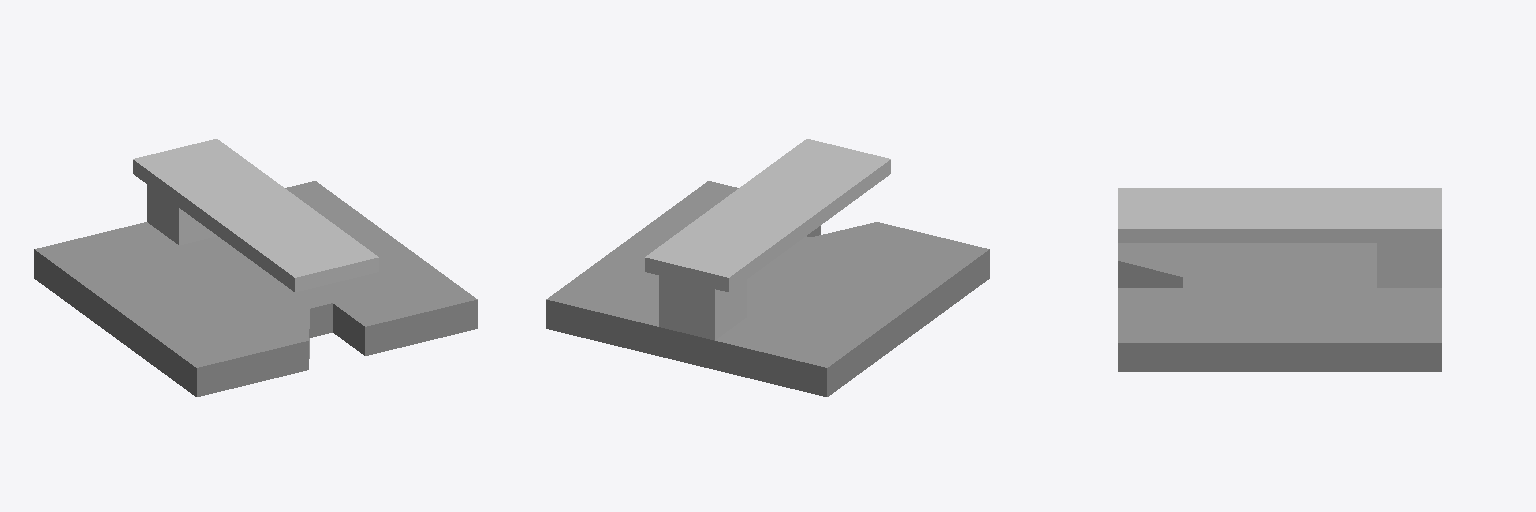
Rendered from hang3.obj.
3 renders of one model, left to right at view 1: azimuth 30°, elevation 25°; view 2: azimuth 150°, elevation 25°; view 3: azimuth 270°, elevation 25°, orthographic.
Visible parts, largest first — view 1: Cube, Cube.001_Cube.004, Cube.003; view 2: Cube, Cube.001_Cube.004, Cube.003; view 3: Cube, Cube.001_Cube.004, Cube.003.
Boxes of the visible parts, x1=… form: Cube: x1=34, y1=181, x2=477, y2=396; Cube.001_Cube.004: x1=133, y1=139, x2=378, y2=291; Cube.003: x1=147, y1=185, x2=216, y2=245; Cube: x1=546, y1=181, x2=989, y2=396; Cube.001_Cube.004: x1=645, y1=139, x2=890, y2=291; Cube.003: x1=659, y1=268, x2=746, y2=340; Cube: x1=1118, y1=243, x2=1441, y2=371; Cube.001_Cube.004: x1=1118, y1=188, x2=1441, y2=242; Cube.003: x1=1377, y1=243, x2=1441, y2=287.
Size of the model in its own units: 10 by 3.25 by 10.